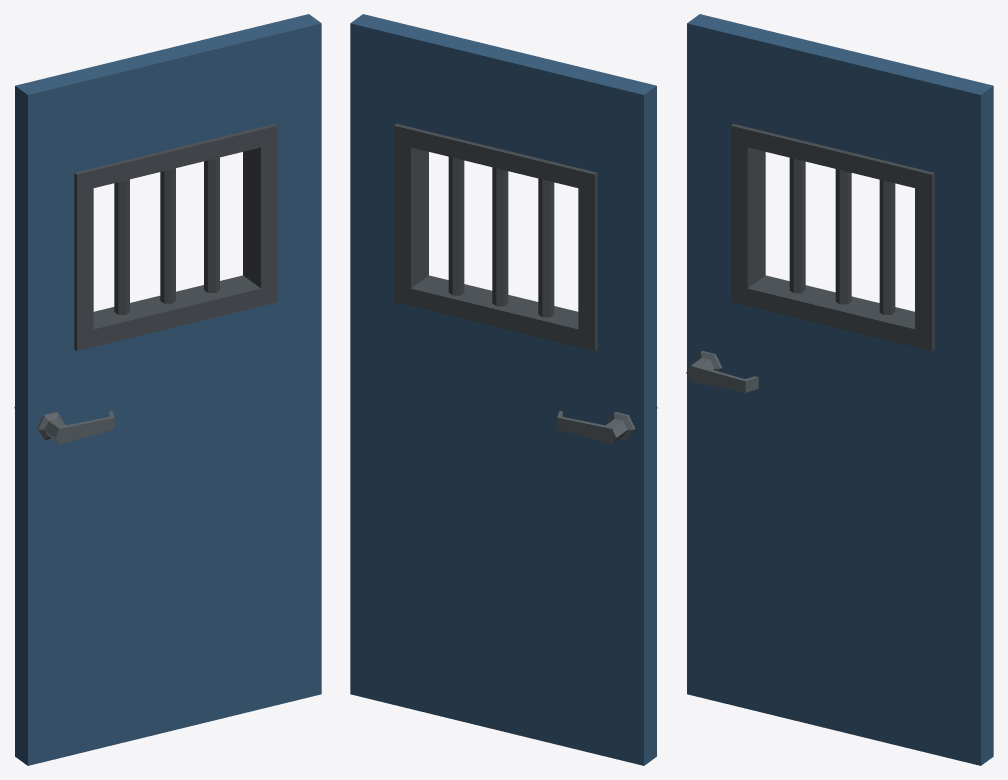
Rendered from SM_Bld_SingleGarage_Door_01.fbx.
3 views of the same model, side by side, from view 1: azimuth 30°, elevation 25°; view 2: azimuth 150°, elevation 25°; view 3: azimuth 330°, elevation 25° (orthographic).
Parts seen in each view (by area): view 1: SM_Bld_SingleGarage_Door_01; view 2: SM_Bld_SingleGarage_Door_01; view 3: SM_Bld_SingleGarage_Door_01.
Boxes of the visible parts, <box> form: SM_Bld_SingleGarage_Door_01: <box>14,14,321,765</box>; SM_Bld_SingleGarage_Door_01: <box>350,14,657,765</box>; SM_Bld_SingleGarage_Door_01: <box>686,14,993,765</box>.
Bounding box in the file's own units: 101 × 221 × 24.59.
